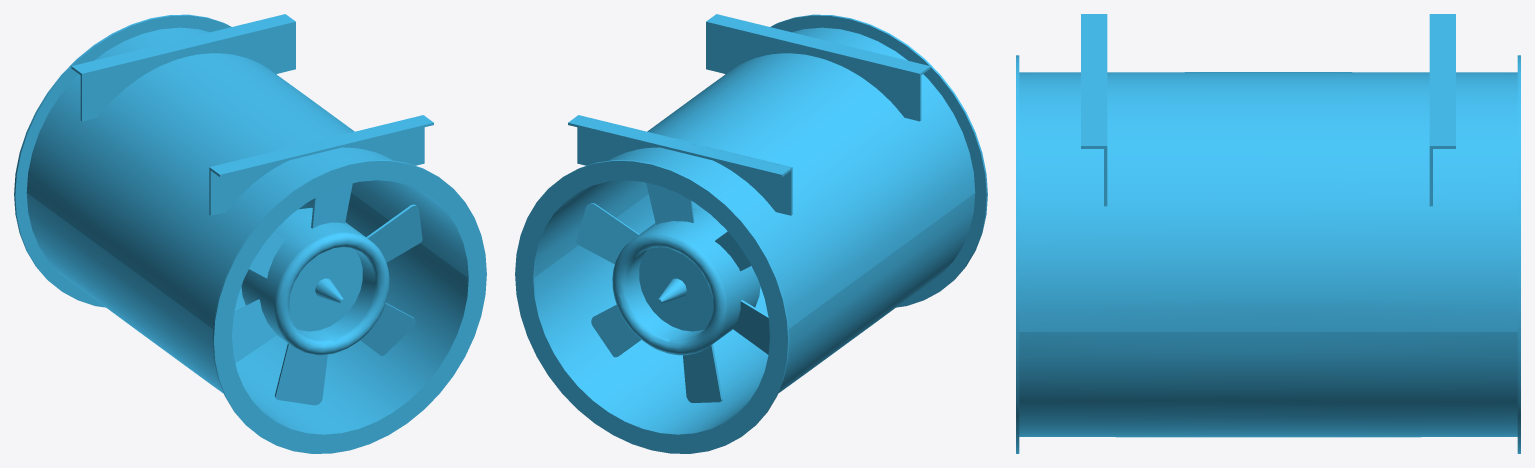
The picture shows the model from 3 angles, left to right: view 1: azimuth 30°, elevation 25°; view 2: azimuth 150°, elevation 25°; view 3: azimuth 270°, elevation 25°; orthographic projection. The views are drawn at different scales.
Bounding box in the file's own units: 810 × 810 × 1026.
